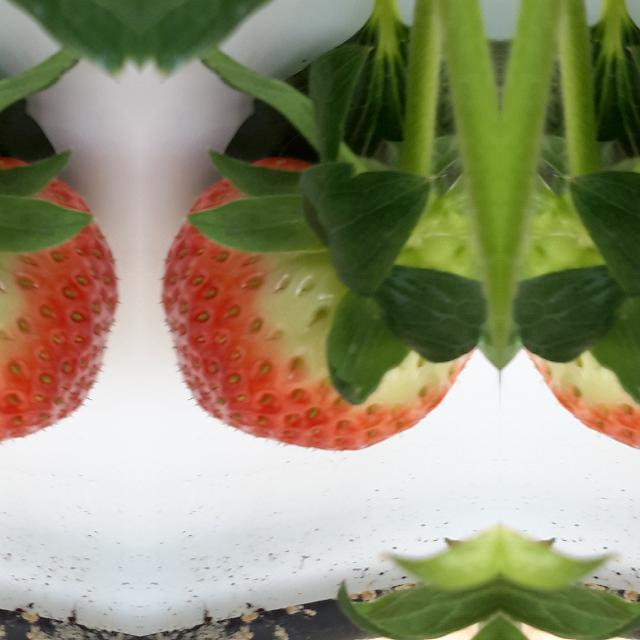Health_100: (158, 157, 474, 451), (0, 157, 121, 451), (526, 157, 640, 451)
